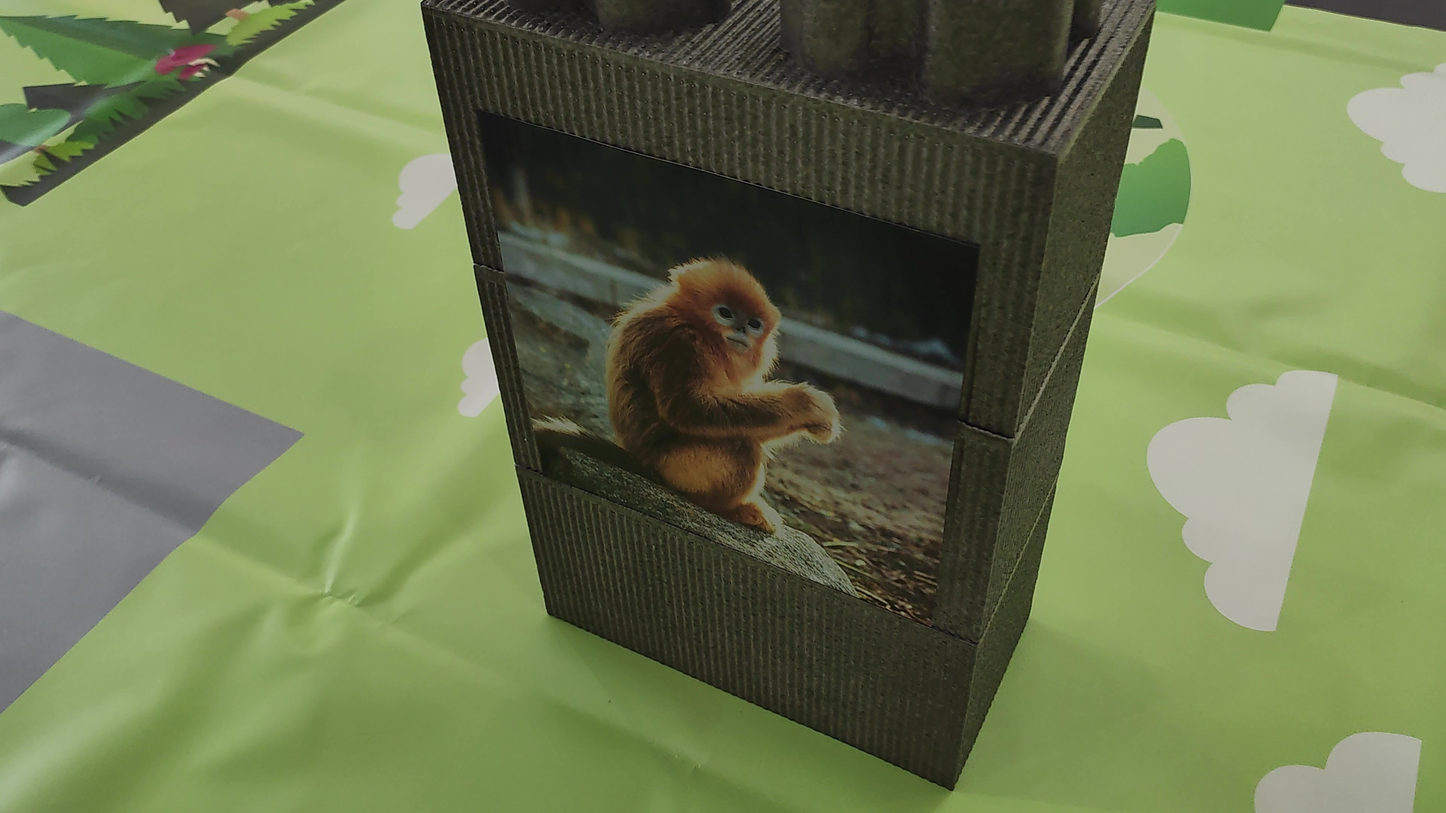monkey: (544, 187, 885, 563)
